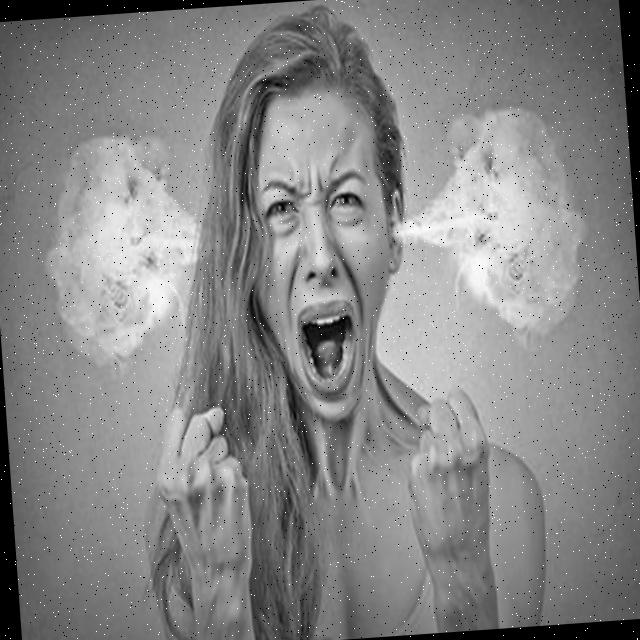Angry: (238, 92, 402, 426)
